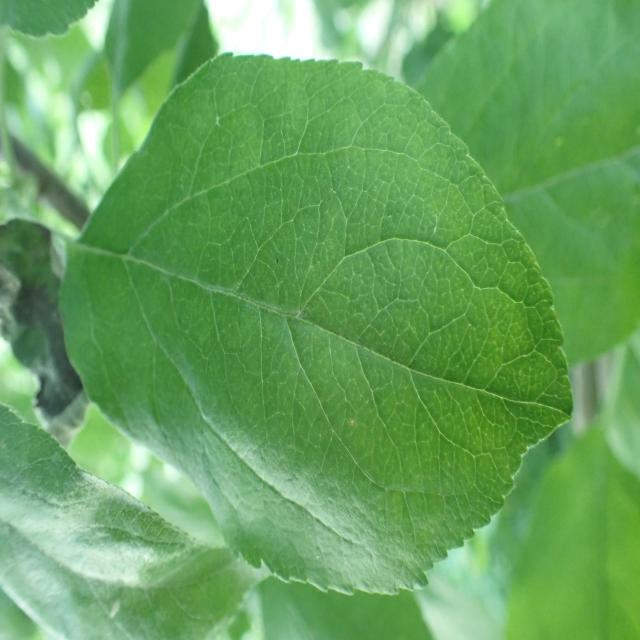healthy: (60, 50, 573, 596), (414, 1, 640, 364), (0, 399, 268, 640)
